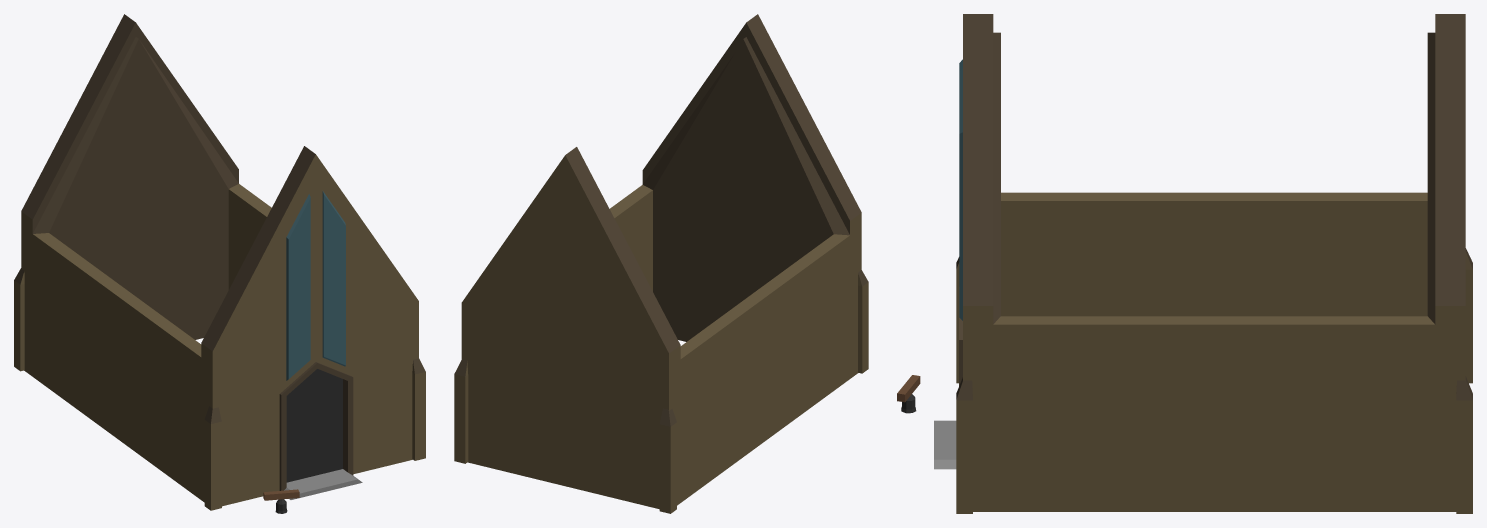
The model's file is Church_build_mat.fbx.
3 views of the same model, side by side, from view 1: azimuth 30°, elevation 25°; view 2: azimuth 150°, elevation 25°; view 3: azimuth 270°, elevation 25° (orthographic). The views are drawn at different scales.
Parts seen in each view (by area): view 1: Church_build_mat; view 2: Church_build_mat; view 3: Church_build_mat.
Boxes of the visible parts, bbox=[...] form: Church_build_mat: bbox=[14, 14, 425, 513]; Church_build_mat: bbox=[454, 14, 868, 513]; Church_build_mat: bbox=[897, 14, 1472, 513].
Size of the model in its own units: 416 by 609 by 736.
